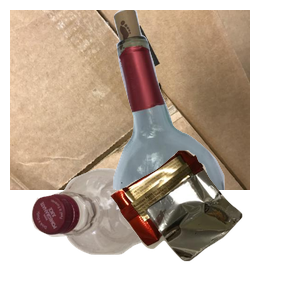cardboard: (10, 10, 250, 190)
glass: (89, 10, 300, 190)
plastic: (29, 166, 183, 300)
trash: (107, 148, 300, 300)
